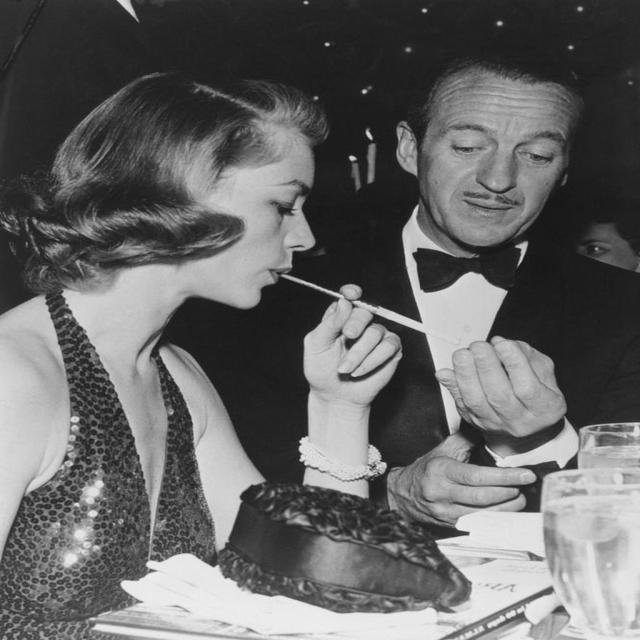smoking: (59, 70, 476, 355)
